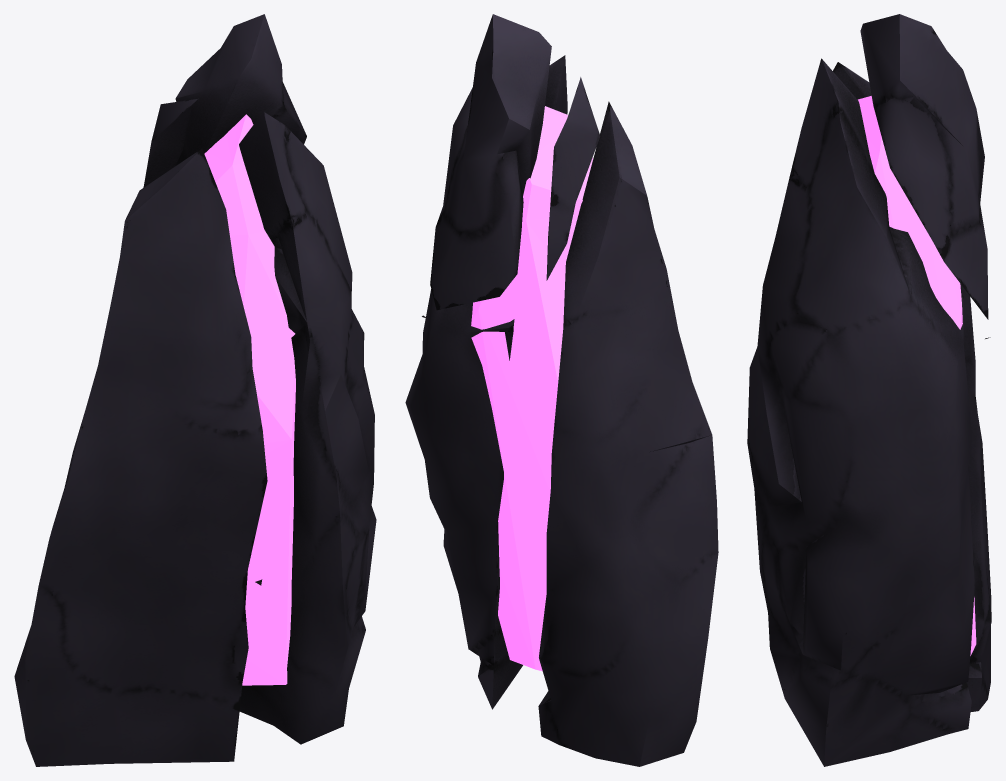
Rendered from RocaOscura_Aguja.fbx.
The picture shows the model from 3 angles, left to right: view 1: azimuth 30°, elevation 25°; view 2: azimuth 150°, elevation 25°; view 3: azimuth 270°, elevation 25°; orthographic projection. The views are drawn at different scales.
Parts seen in each view (by area): view 1: RocaOscura_Aguja, RocaOscura_Aguja_Nucleo; view 2: RocaOscura_Aguja, RocaOscura_Aguja_Nucleo; view 3: RocaOscura_Aguja, RocaOscura_Aguja_Nucleo.
Boxes of the visible parts, box(x1,y1,x2,y2) form: RocaOscura_Aguja: box(14, 14, 376, 766); RocaOscura_Aguja_Nucleo: box(204, 114, 295, 685); RocaOscura_Aguja: box(405, 14, 718, 766); RocaOscura_Aguja_Nucleo: box(471, 106, 593, 671); RocaOscura_Aguja: box(747, 14, 991, 766); RocaOscura_Aguja_Nucleo: box(858, 96, 976, 655).
Bounding box in the file's own units: 0.9535 × 2.06 × 0.6115.
2 materials, 1 textured.
